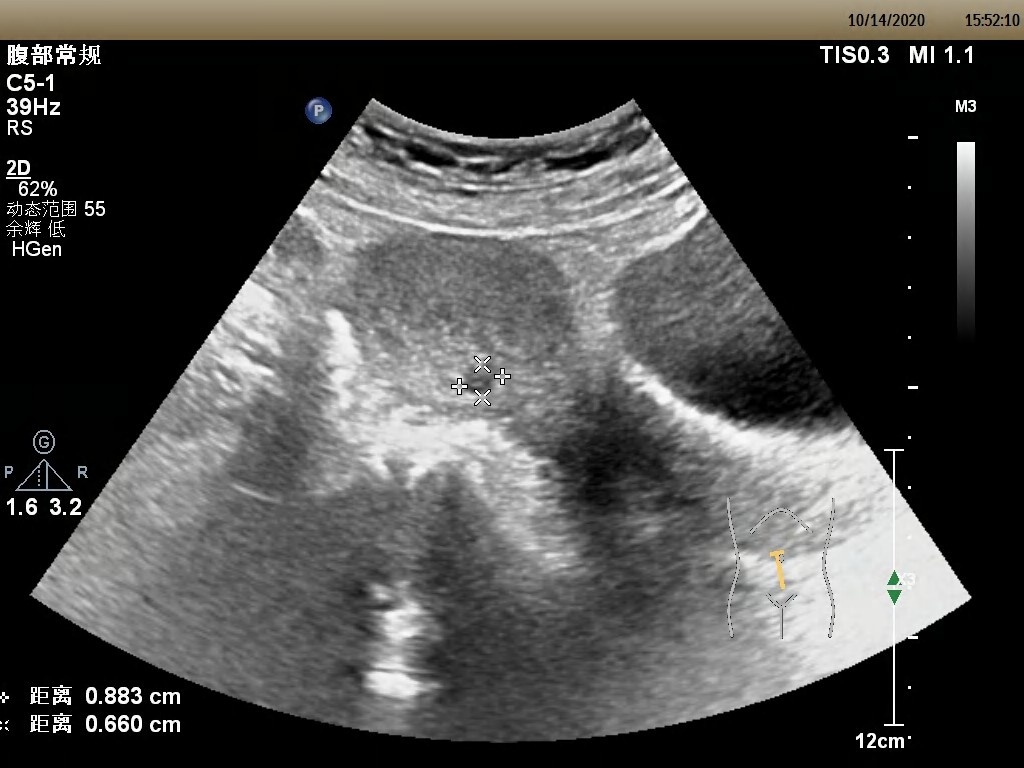肌瘤: (461, 365, 499, 397)
